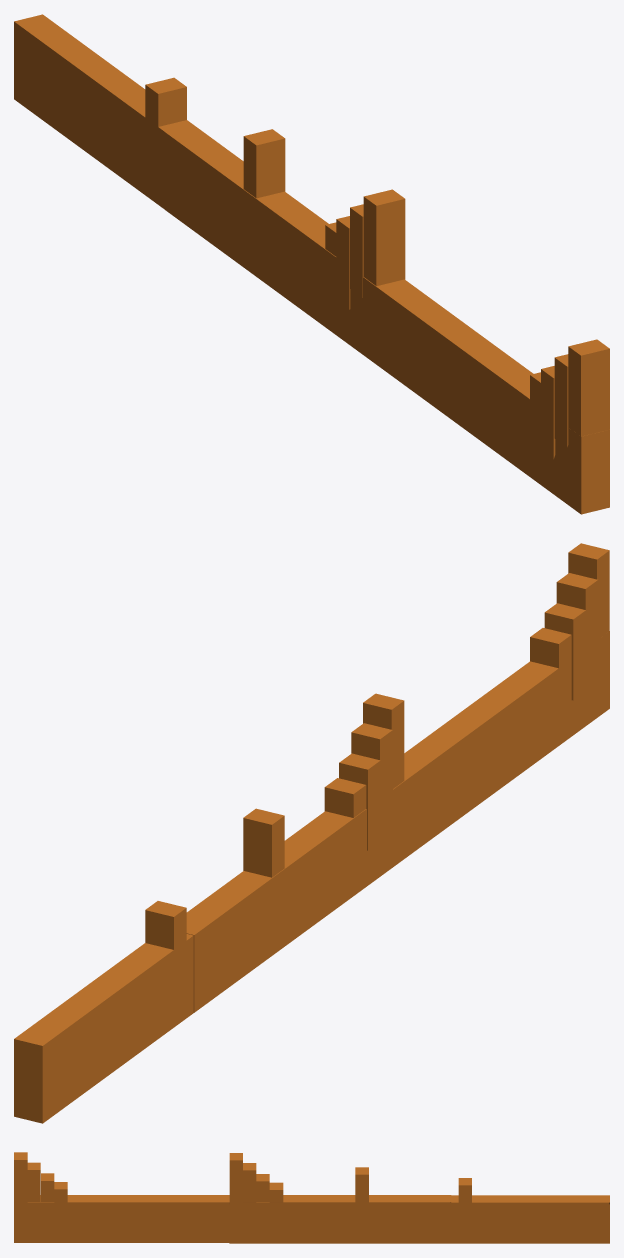
Rendered from stage1_1.obj.
3 renders of one model, top to bottom at view 1: azimuth 30°, elevation 25°; view 2: azimuth 150°, elevation 25°; view 3: azimuth 270°, elevation 25°, orthographic. The views are drawn at different scales.
Visible parts, largest first — view 1: Cube; view 2: Cube; view 3: Cube.
Part boxes in pixels (x1,y1,x2,y2): Cube: (14,14,609,514); Cube: (14,543,609,1123); Cube: (14,1152,609,1243).
Bounding box in the file's own units: 25.78 × 126 × 813.
